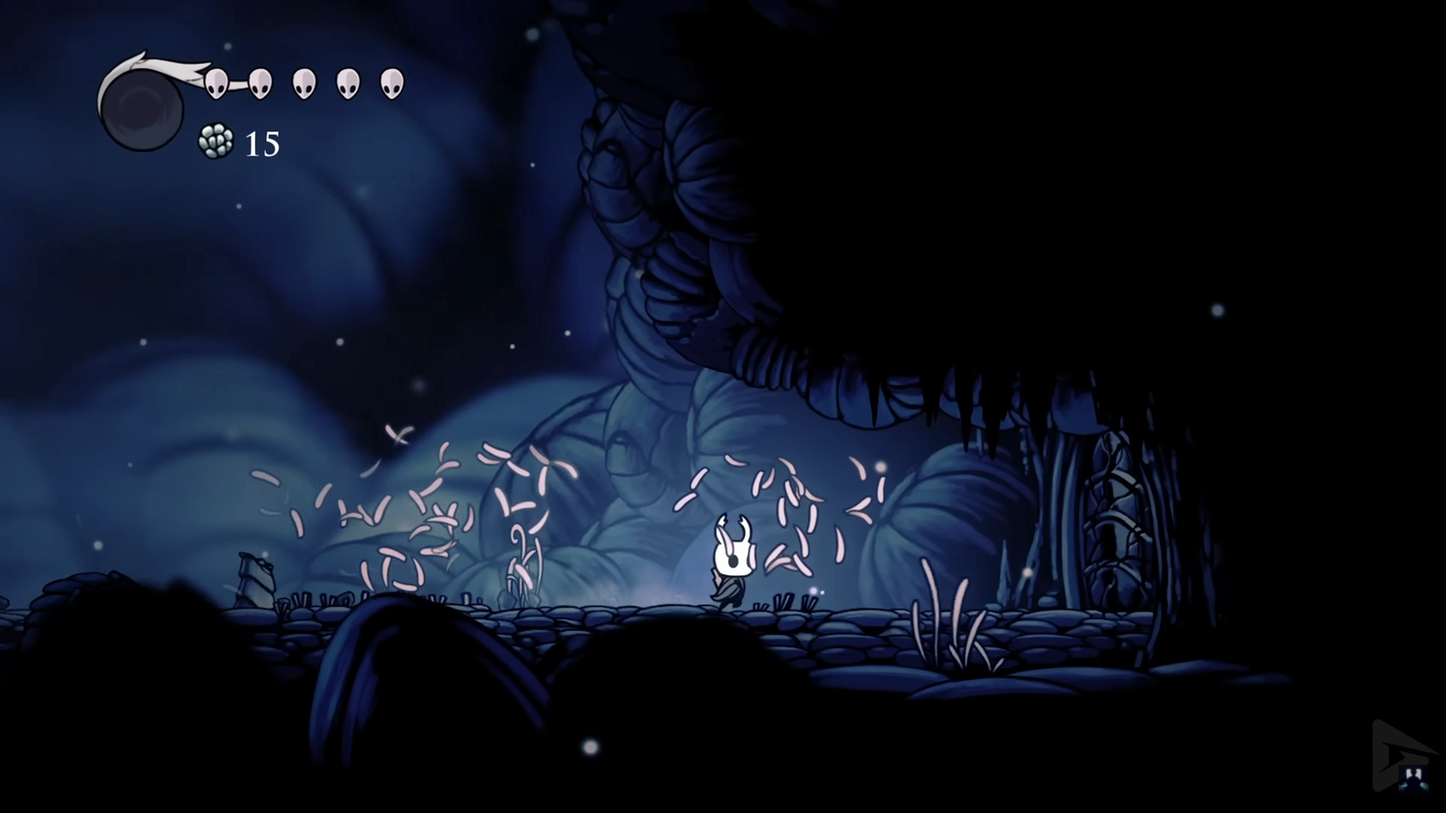HK: (704, 513, 758, 610)
